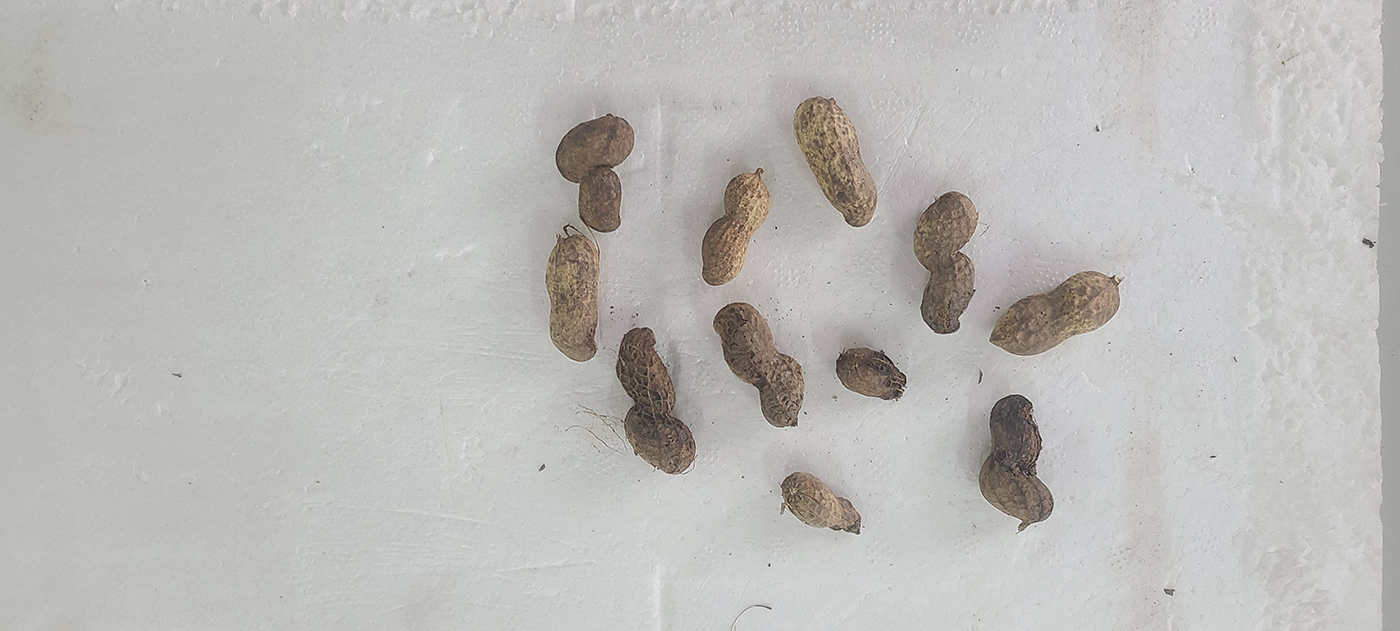l: (616, 326, 698, 475), (792, 97, 878, 228), (715, 302, 805, 427), (989, 271, 1122, 355), (977, 394, 1053, 522), (912, 190, 978, 334), (700, 171, 769, 286), (546, 236, 602, 359), (556, 115, 636, 184), (782, 471, 862, 536), (835, 346, 906, 401), (579, 167, 622, 232)
